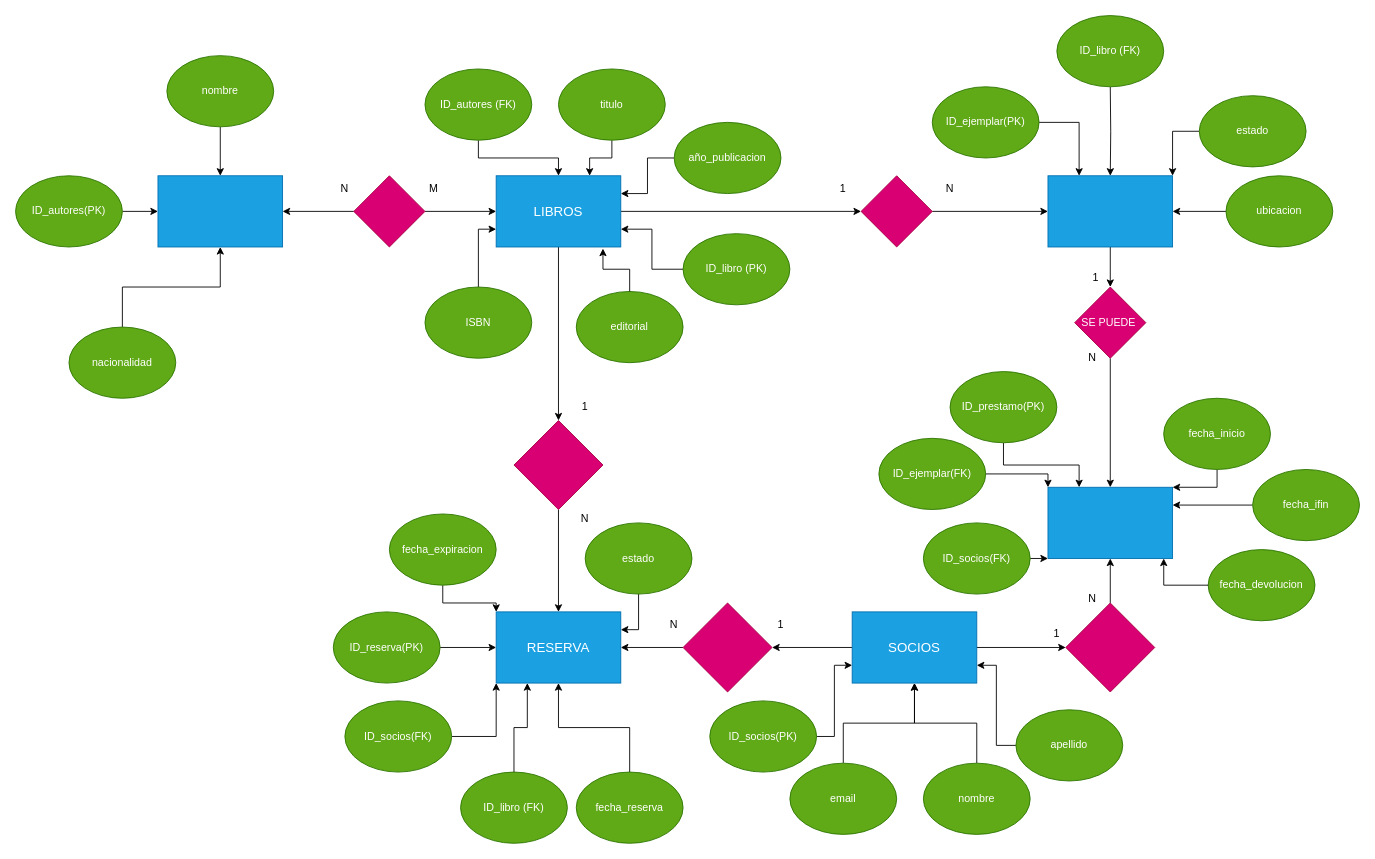
The diagram is 1375 pixels wide and 859 high, and some of its shapes have lost their labels. The centre of each missing label's shape, as x and y in pixels:
AUTORES: (x=220, y=211)
EJEMPLAR: (x=1110, y=211)
ESCRIBEN: (x=389, y=211)
PRESTAMO: (x=1110, y=522)
PUEDE: (x=727, y=647)
REALIZA: (x=1110, y=647)
TIENE: (x=896, y=211)
TIENE RESERVAS: (x=558, y=465)
